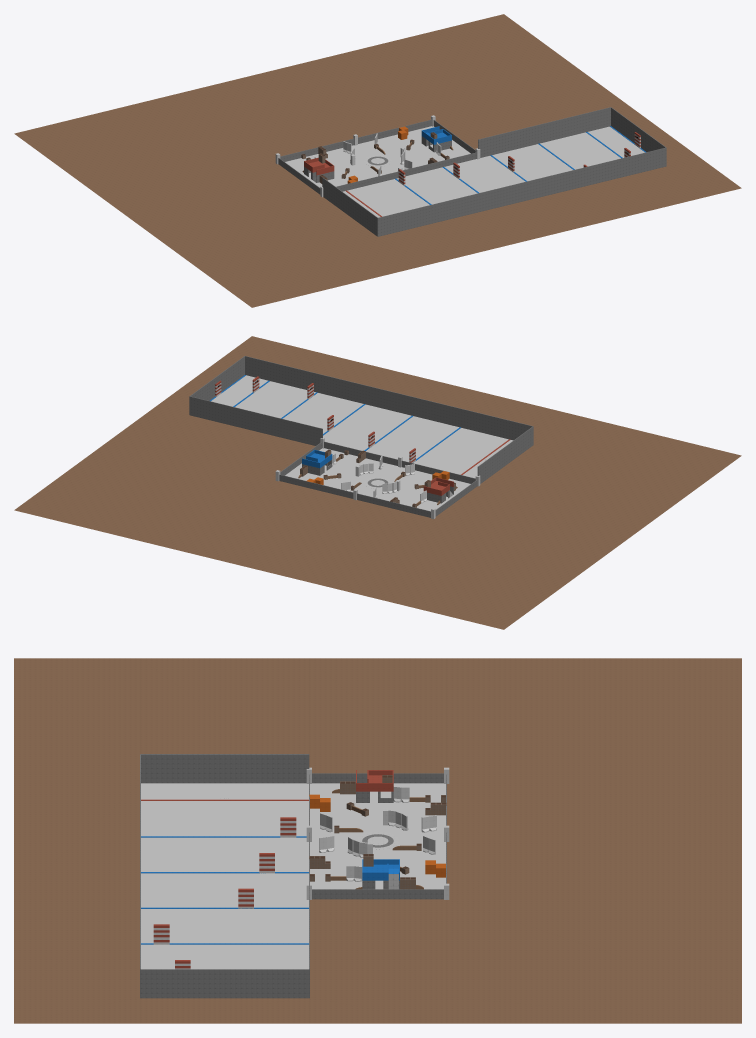
File: testing_grounds.fbx
3 views of the same model, one above another, from view 1: azimuth 30°, elevation 25°; view 2: azimuth 150°, elevation 25°; view 3: azimuth 270°, elevation 25° (orthographic). The views are drawn at different scales.
Visible parts, largest first — view 1: far_distance, Cube.004, Cube.085, Cube, Cube.084, Cube.086, Cube.083, Cube.038, Cube.005, Cube.035; view 2: far_distance, Cube.004, Cube.085, Cube, Cube.084, Cube.086, Cube.083, Cube.005, Cube.038, Cube.036, Cube.001; view 3: far_distance, Cube.004, Cube, Cube.083, Cube.086, Cube.037, Cube.077, Cube.003, Cube.038, Cube.005.
Part boxes in pixels (x1,y1,x2,y2): far_distance: (14, 14, 741, 307); Cube.004: (343, 126, 644, 217); Cube.085: (378, 147, 666, 236); Cube: (285, 126, 470, 187); Cube.084: (478, 107, 610, 157); Cube.086: (322, 177, 377, 236); Cube.083: (611, 107, 666, 165); Cube.038: (421, 126, 451, 152); Cube.005: (304, 157, 334, 182); Cube.035: (402, 152, 476, 176); far_distance: (14, 336, 741, 629); Cube.004: (211, 375, 513, 478); Cube.085: (245, 356, 532, 440); Cube: (285, 448, 470, 511); Cube.084: (189, 396, 322, 445); Cube.086: (477, 426, 533, 483); Cube.083: (189, 356, 244, 414); Cube.005: (423, 477, 453, 503); Cube.038: (302, 449, 332, 475); Cube.036: (279, 474, 353, 498); Cube.001: (357, 493, 430, 517); far_distance: (14, 658, 741, 1023); Cube.004: (141, 783, 308, 969); Cube: (310, 783, 445, 889); Cube.083: (140, 969, 309, 998); Cube.086: (141, 754, 309, 783); Cube.037: (312, 889, 443, 899); Cube.077: (141, 836, 308, 944); Cube.003: (312, 773, 443, 783); Cube.038: (362, 859, 399, 889); Cube.005: (356, 770, 393, 802).
Size of the model in its own units: 164 by 6.01 by 138.
